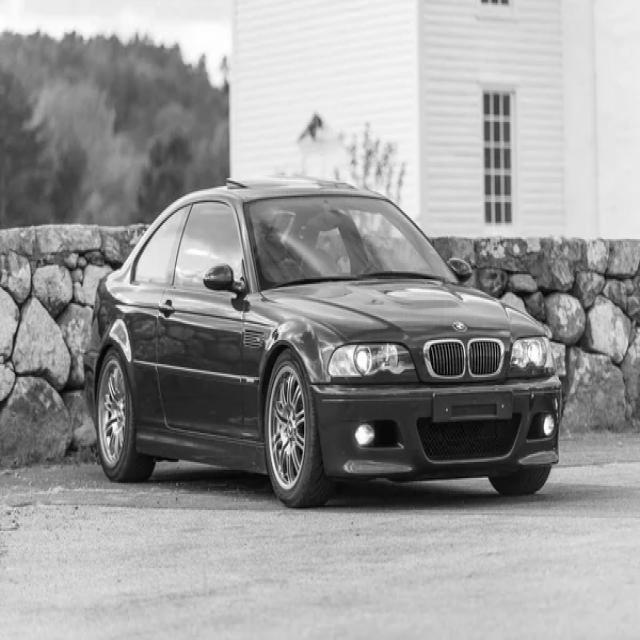Car: (84, 180, 562, 508)
